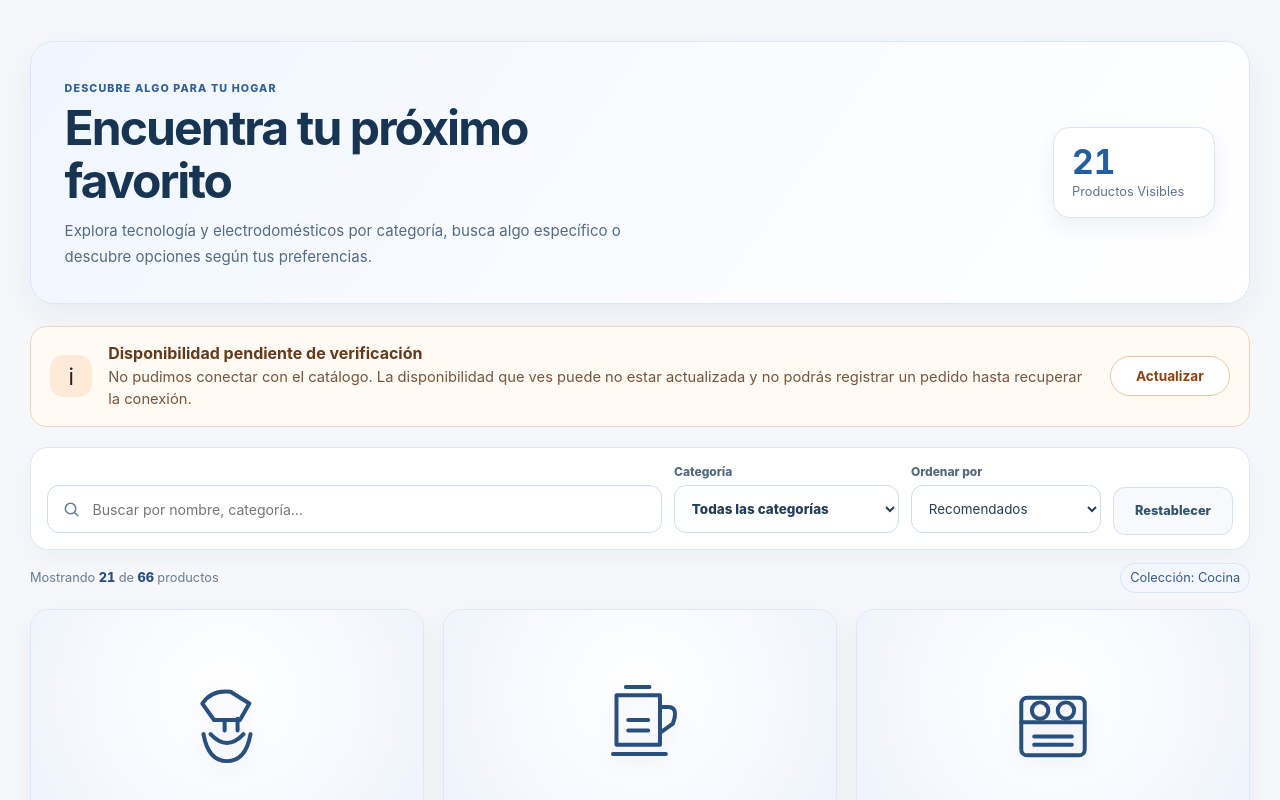
Test: ListadoProductos › opens a catalog collection from the homepage category link and can clear it
This screenshot has width=1280, height=800.
Expected: the text "Colección: Cocina" is shown, left=1120, top=563, right=1250, bottom=593
Expected: the heading "Encuentra tu próximo favorito" is shown, left=65, top=98, right=528, bottom=210
Click the button "Restablecer". click: coordinates (1173, 511)
box: left=1113, top=487, right=1233, bottom=535
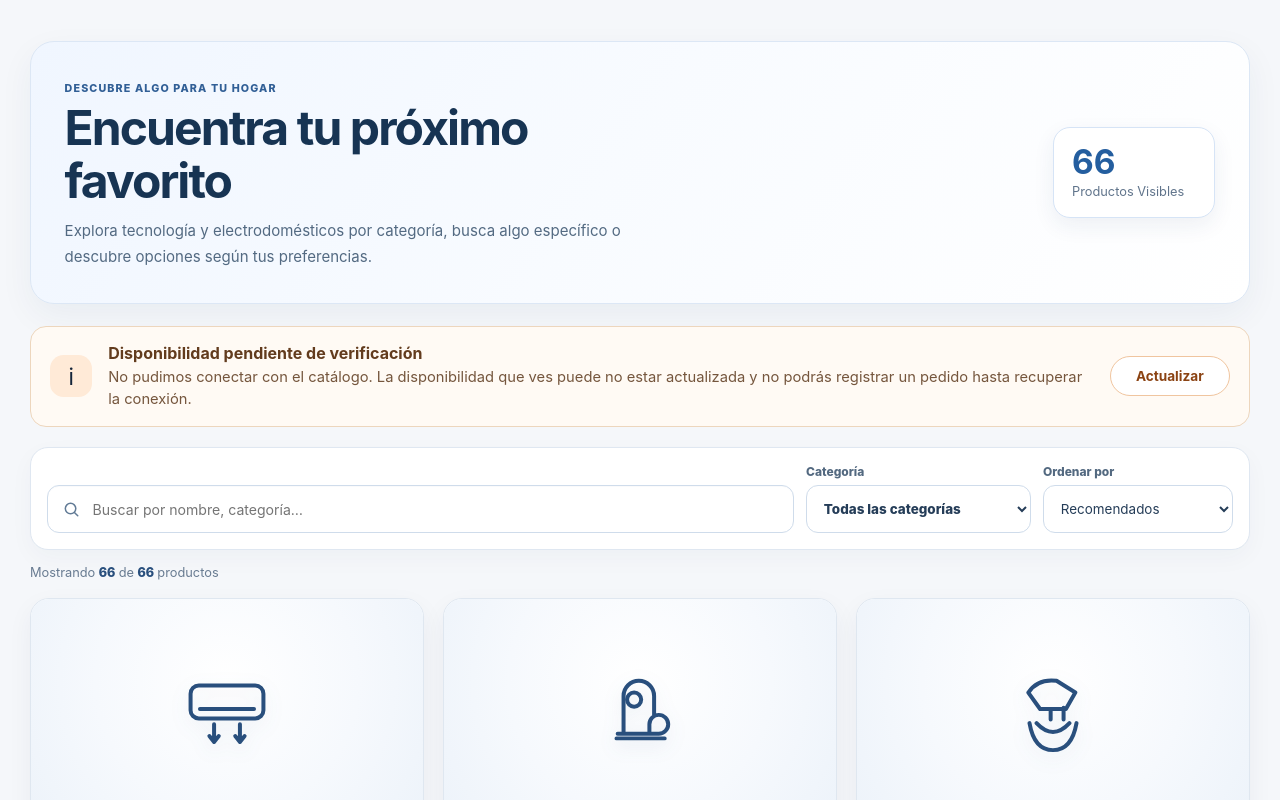
Result: the text "Colección: Cocina" is gone
Result: the number of list items with class "evh-product-card" is 66
